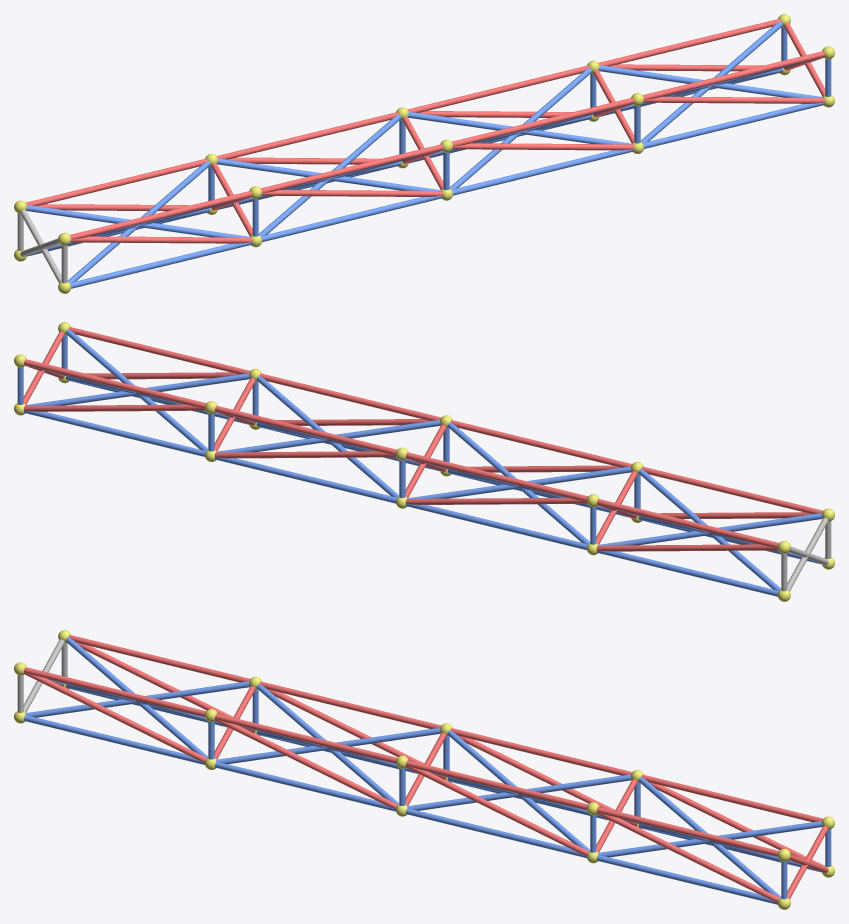
Rendered from truss.glb.
3 views of the same model, one above another, from view 1: azimuth 30°, elevation 25°; view 2: azimuth 150°, elevation 25°; view 3: azimuth 330°, elevation 25° (orthographic).
Parts seen in each view (by area): view 1: Cylinder.004, Cylinder.032, Cylinder.046, Cylinder.018, Cylinder.024, Cylinder.052, Cylinder.010, Cylinder.038, Cylinder.030, Cylinder.016, Cylinder.044, Cylinder.002 (+16 smaller); view 2: Cylinder.009, Cylinder.037, Cylinder.051, Cylinder.023, Cylinder.016, Cylinder.044, Cylinder.002, Cylinder.030, Cylinder.038, Cylinder.024, Cylinder.052, Cylinder.010 (+16 smaller); view 3: Cylinder.012, Cylinder.026, Cylinder.040, Cylinder.054, Cylinder.011, Cylinder.025, Cylinder.053, Cylinder.039, Cylinder.038, Cylinder.052, Cylinder.010, Cylinder.024 (+16 smaller).
Part boxes in pixels (x1,y1,x2,y2): Cylinder.004: [26, 205, 250, 237]; Cylinder.032: [408, 112, 632, 144]; Cylinder.046: [599, 65, 823, 97]; Cylinder.018: [217, 158, 441, 190]; Cylinder.024: [261, 144, 442, 192]; Cylinder.052: [642, 51, 824, 99]; Cylinder.010: [70, 191, 251, 239]; Cylinder.038: [452, 98, 633, 146]; Cylinder.030: [407, 65, 589, 112]; Cylinder.016: [216, 112, 398, 159]; Cylinder.044: [598, 19, 780, 66]; Cylinder.002: [26, 158, 207, 205]; Cylinder.009: [598, 513, 822, 545]; Cylinder.037: [216, 420, 440, 452]; Cylinder.051: [25, 373, 249, 405]; Cylinder.023: [407, 466, 631, 498]; Cylinder.016: [406, 452, 587, 500]; Cylinder.044: [24, 359, 206, 407]; Cylinder.002: [597, 499, 778, 547]; Cylinder.030: [215, 406, 396, 454]; Cylinder.038: [259, 373, 441, 420]; Cylinder.024: [450, 420, 632, 467]; Cylinder.052: [68, 327, 250, 374]; Cylinder.010: [641, 466, 822, 513]; Cylinder.012: [25, 681, 249, 717]; Cylinder.026: [216, 728, 440, 764]; Cylinder.040: [407, 774, 631, 810]; Cylinder.054: [598, 821, 822, 857]; Cylinder.011: [24, 672, 207, 762]; Cylinder.025: [214, 718, 397, 809]; Cylinder.053: [596, 812, 779, 902]; Cylinder.039: [405, 765, 588, 855]; Cylinder.038: [406, 760, 587, 810]; Cylinder.052: [597, 807, 778, 856]; Cylinder.010: [24, 667, 206, 716]; Cylinder.024: [215, 714, 396, 763].
Size of the model in its own units: 2.03 by 0.15 by 0.23.
